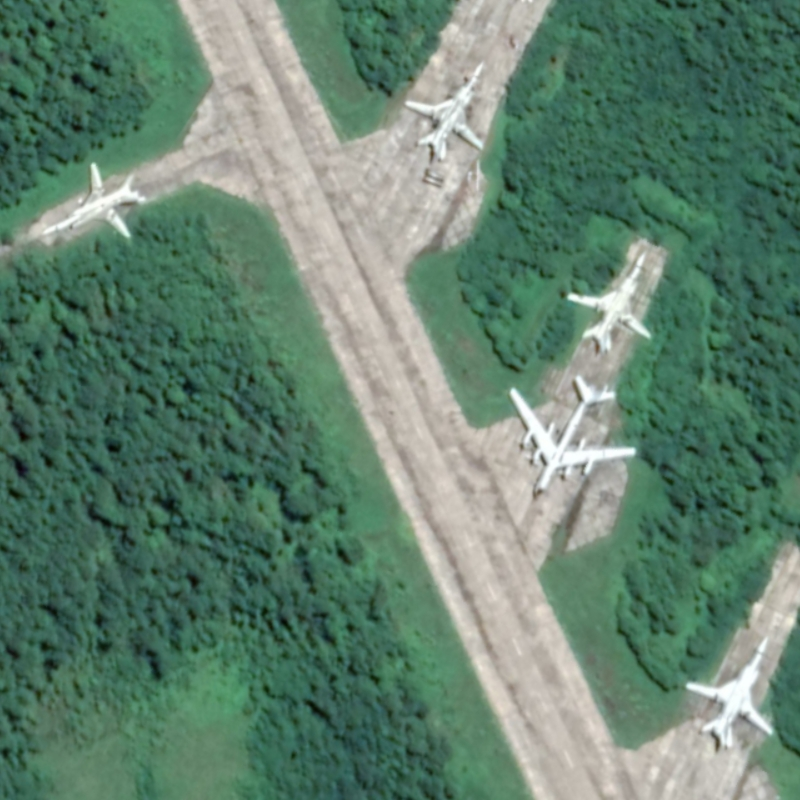A12: (682, 634, 776, 754), (564, 249, 654, 356), (37, 158, 149, 242), (400, 58, 486, 162)
A17: (505, 370, 639, 502)
